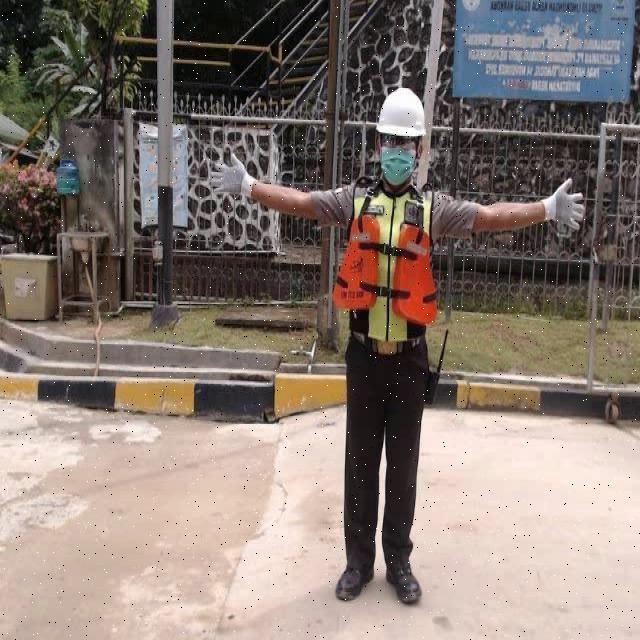Hard_hat: (372, 89, 435, 142)
Person: (206, 87, 584, 613)
Vest: (352, 184, 438, 341)
